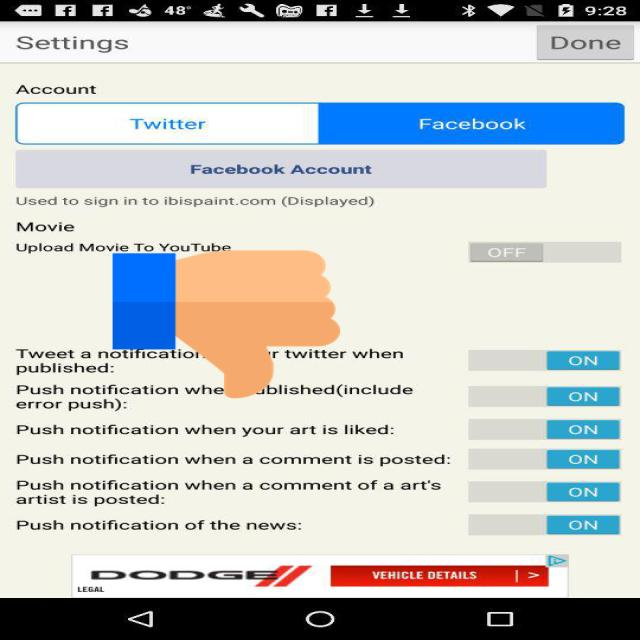obstruction: (113, 247, 340, 402)
